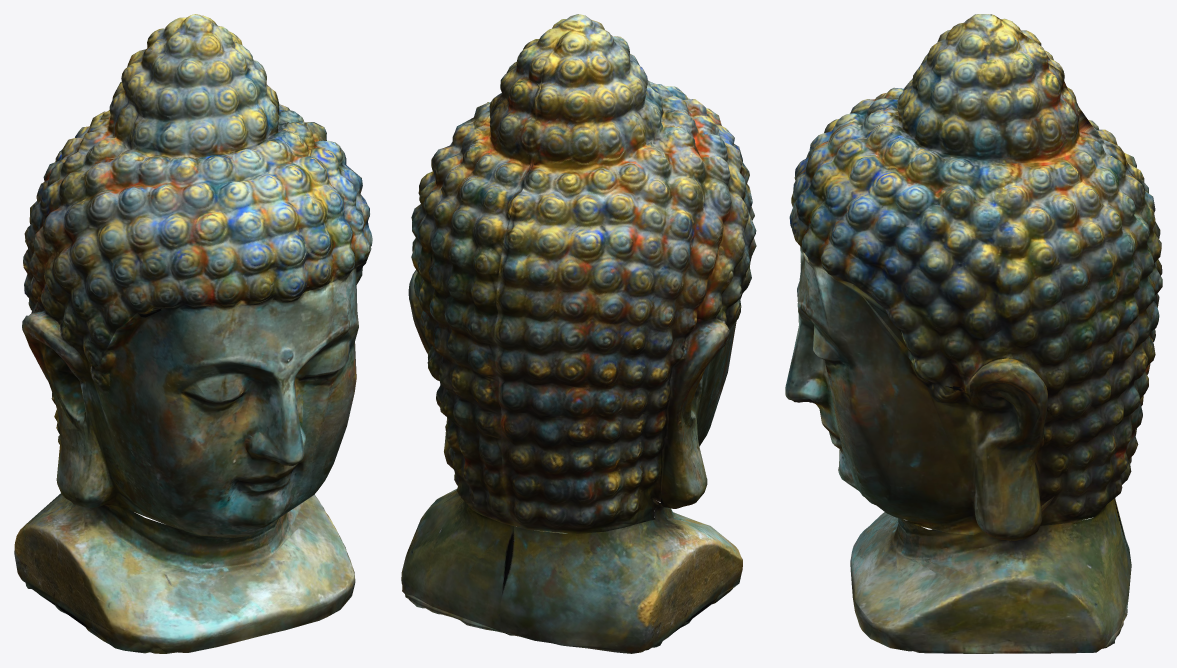
The model's file is mdl_klemes_buddha.glb.
3 views of the same model, side by side, from view 1: azimuth 30°, elevation 25°; view 2: azimuth 150°, elevation 25°; view 3: azimuth 270°, elevation 25° (orthographic). The views are drawn at different scales.
Visible parts, largest first — view 1: Object_2; view 2: Object_2; view 3: Object_2.
Part boxes in pixels (left/top/right/bottom): Object_2: left=14, top=14, right=372, bottom=653; Object_2: left=401, top=14, right=756, bottom=653; Object_2: left=785, top=14, right=1162, bottom=653.
Bounding box in the file's own units: 1.16 × 2.07 × 1.22.
1 material, 1 textured.
